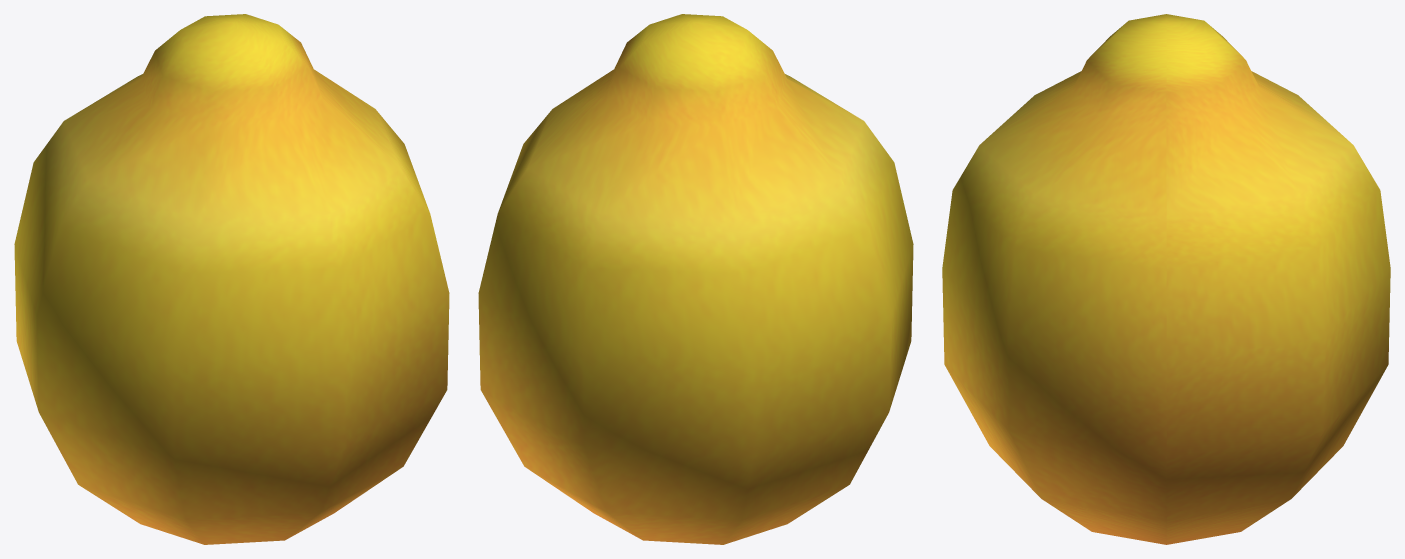
File: Lemon_Whole.fbx
The picture shows the model from 3 angles, left to right: view 1: azimuth 30°, elevation 25°; view 2: azimuth 150°, elevation 25°; view 3: azimuth 270°, elevation 25°; orthographic projection.
Visible parts, largest first — view 1: Lemon_Whole; view 2: Lemon_Whole; view 3: Lemon_Whole.
Boxes of the visible parts, box(x1,y1,x2,y2) form: Lemon_Whole: box(14, 14, 449, 544); Lemon_Whole: box(478, 14, 913, 544); Lemon_Whole: box(942, 14, 1390, 544).
Bounding box in the file's own units: 24.73 × 30.16 × 24.73.
